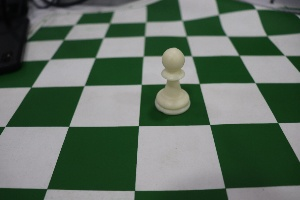white_pawn: (143, 35, 197, 129)
